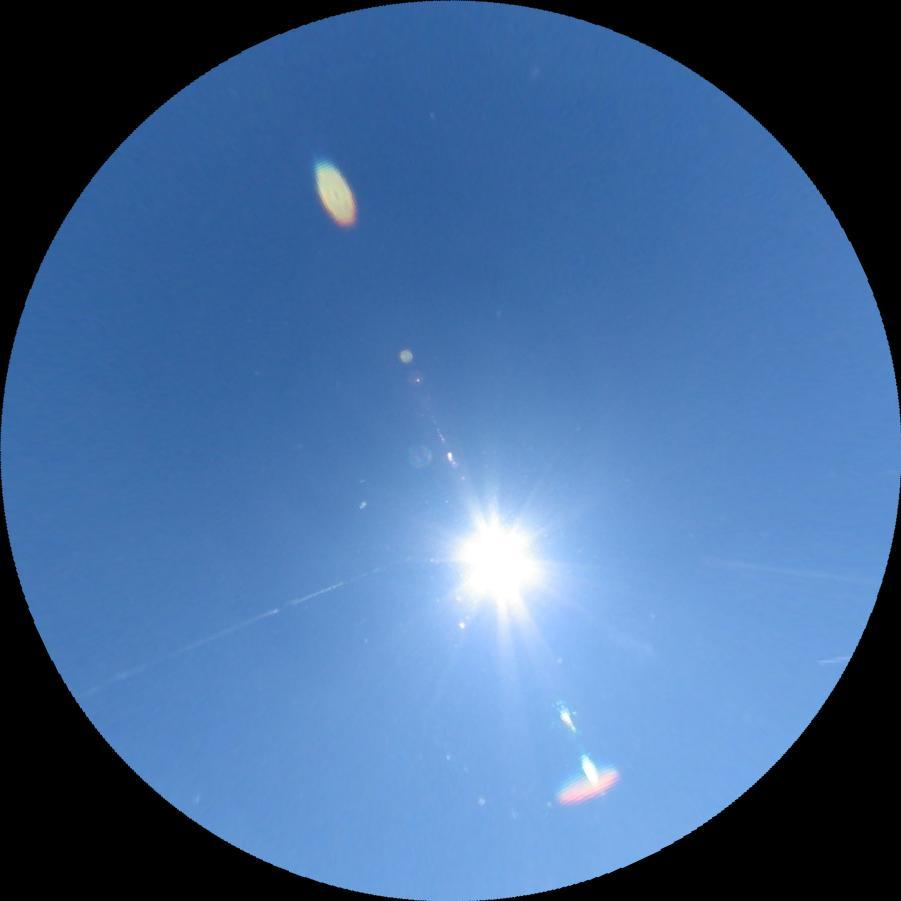contrail young: (816, 654, 852, 669)
parasite: (72, 548, 410, 701), (688, 551, 879, 590)
sun: (439, 506, 551, 619)
